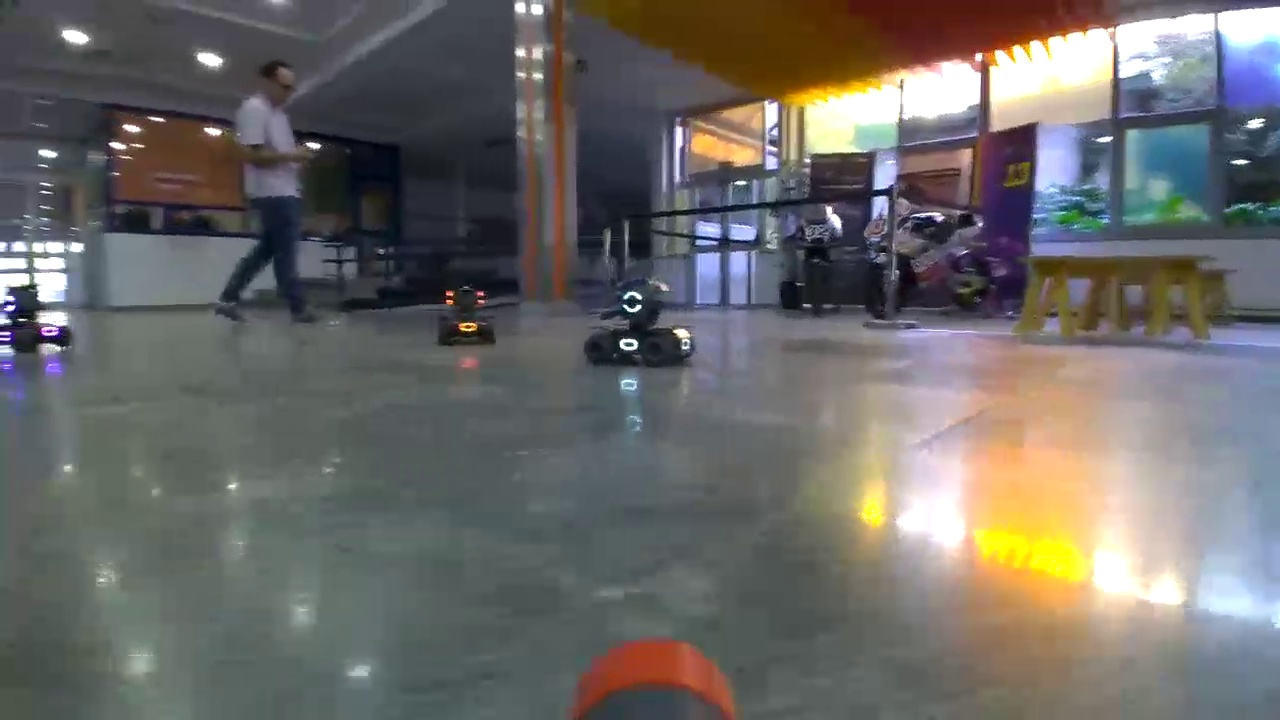robot: (585, 280, 693, 366), (1, 288, 70, 349), (440, 284, 496, 345)
